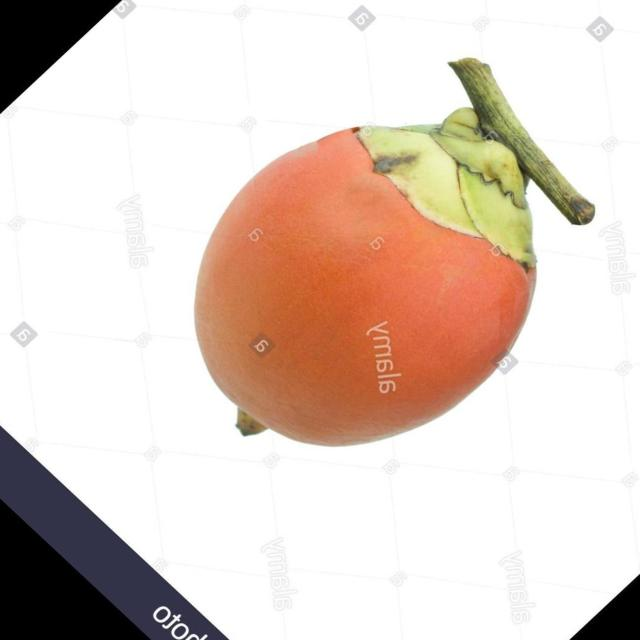good: (193, 109, 537, 449)
